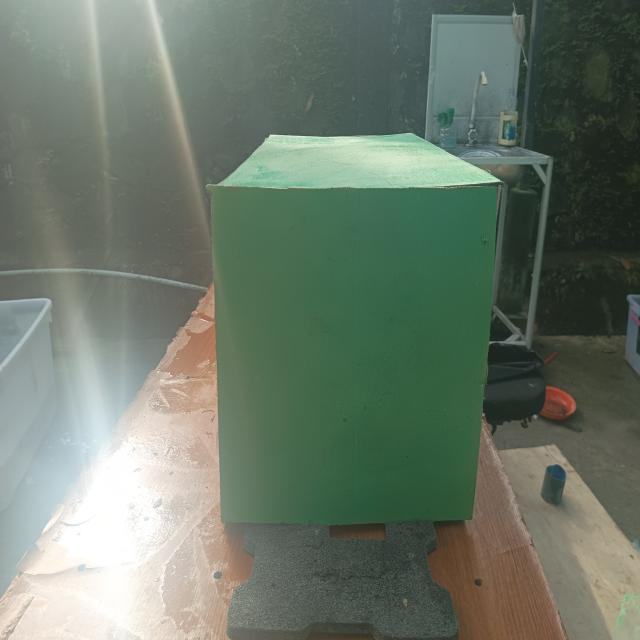green_box: (198, 123, 507, 533)
